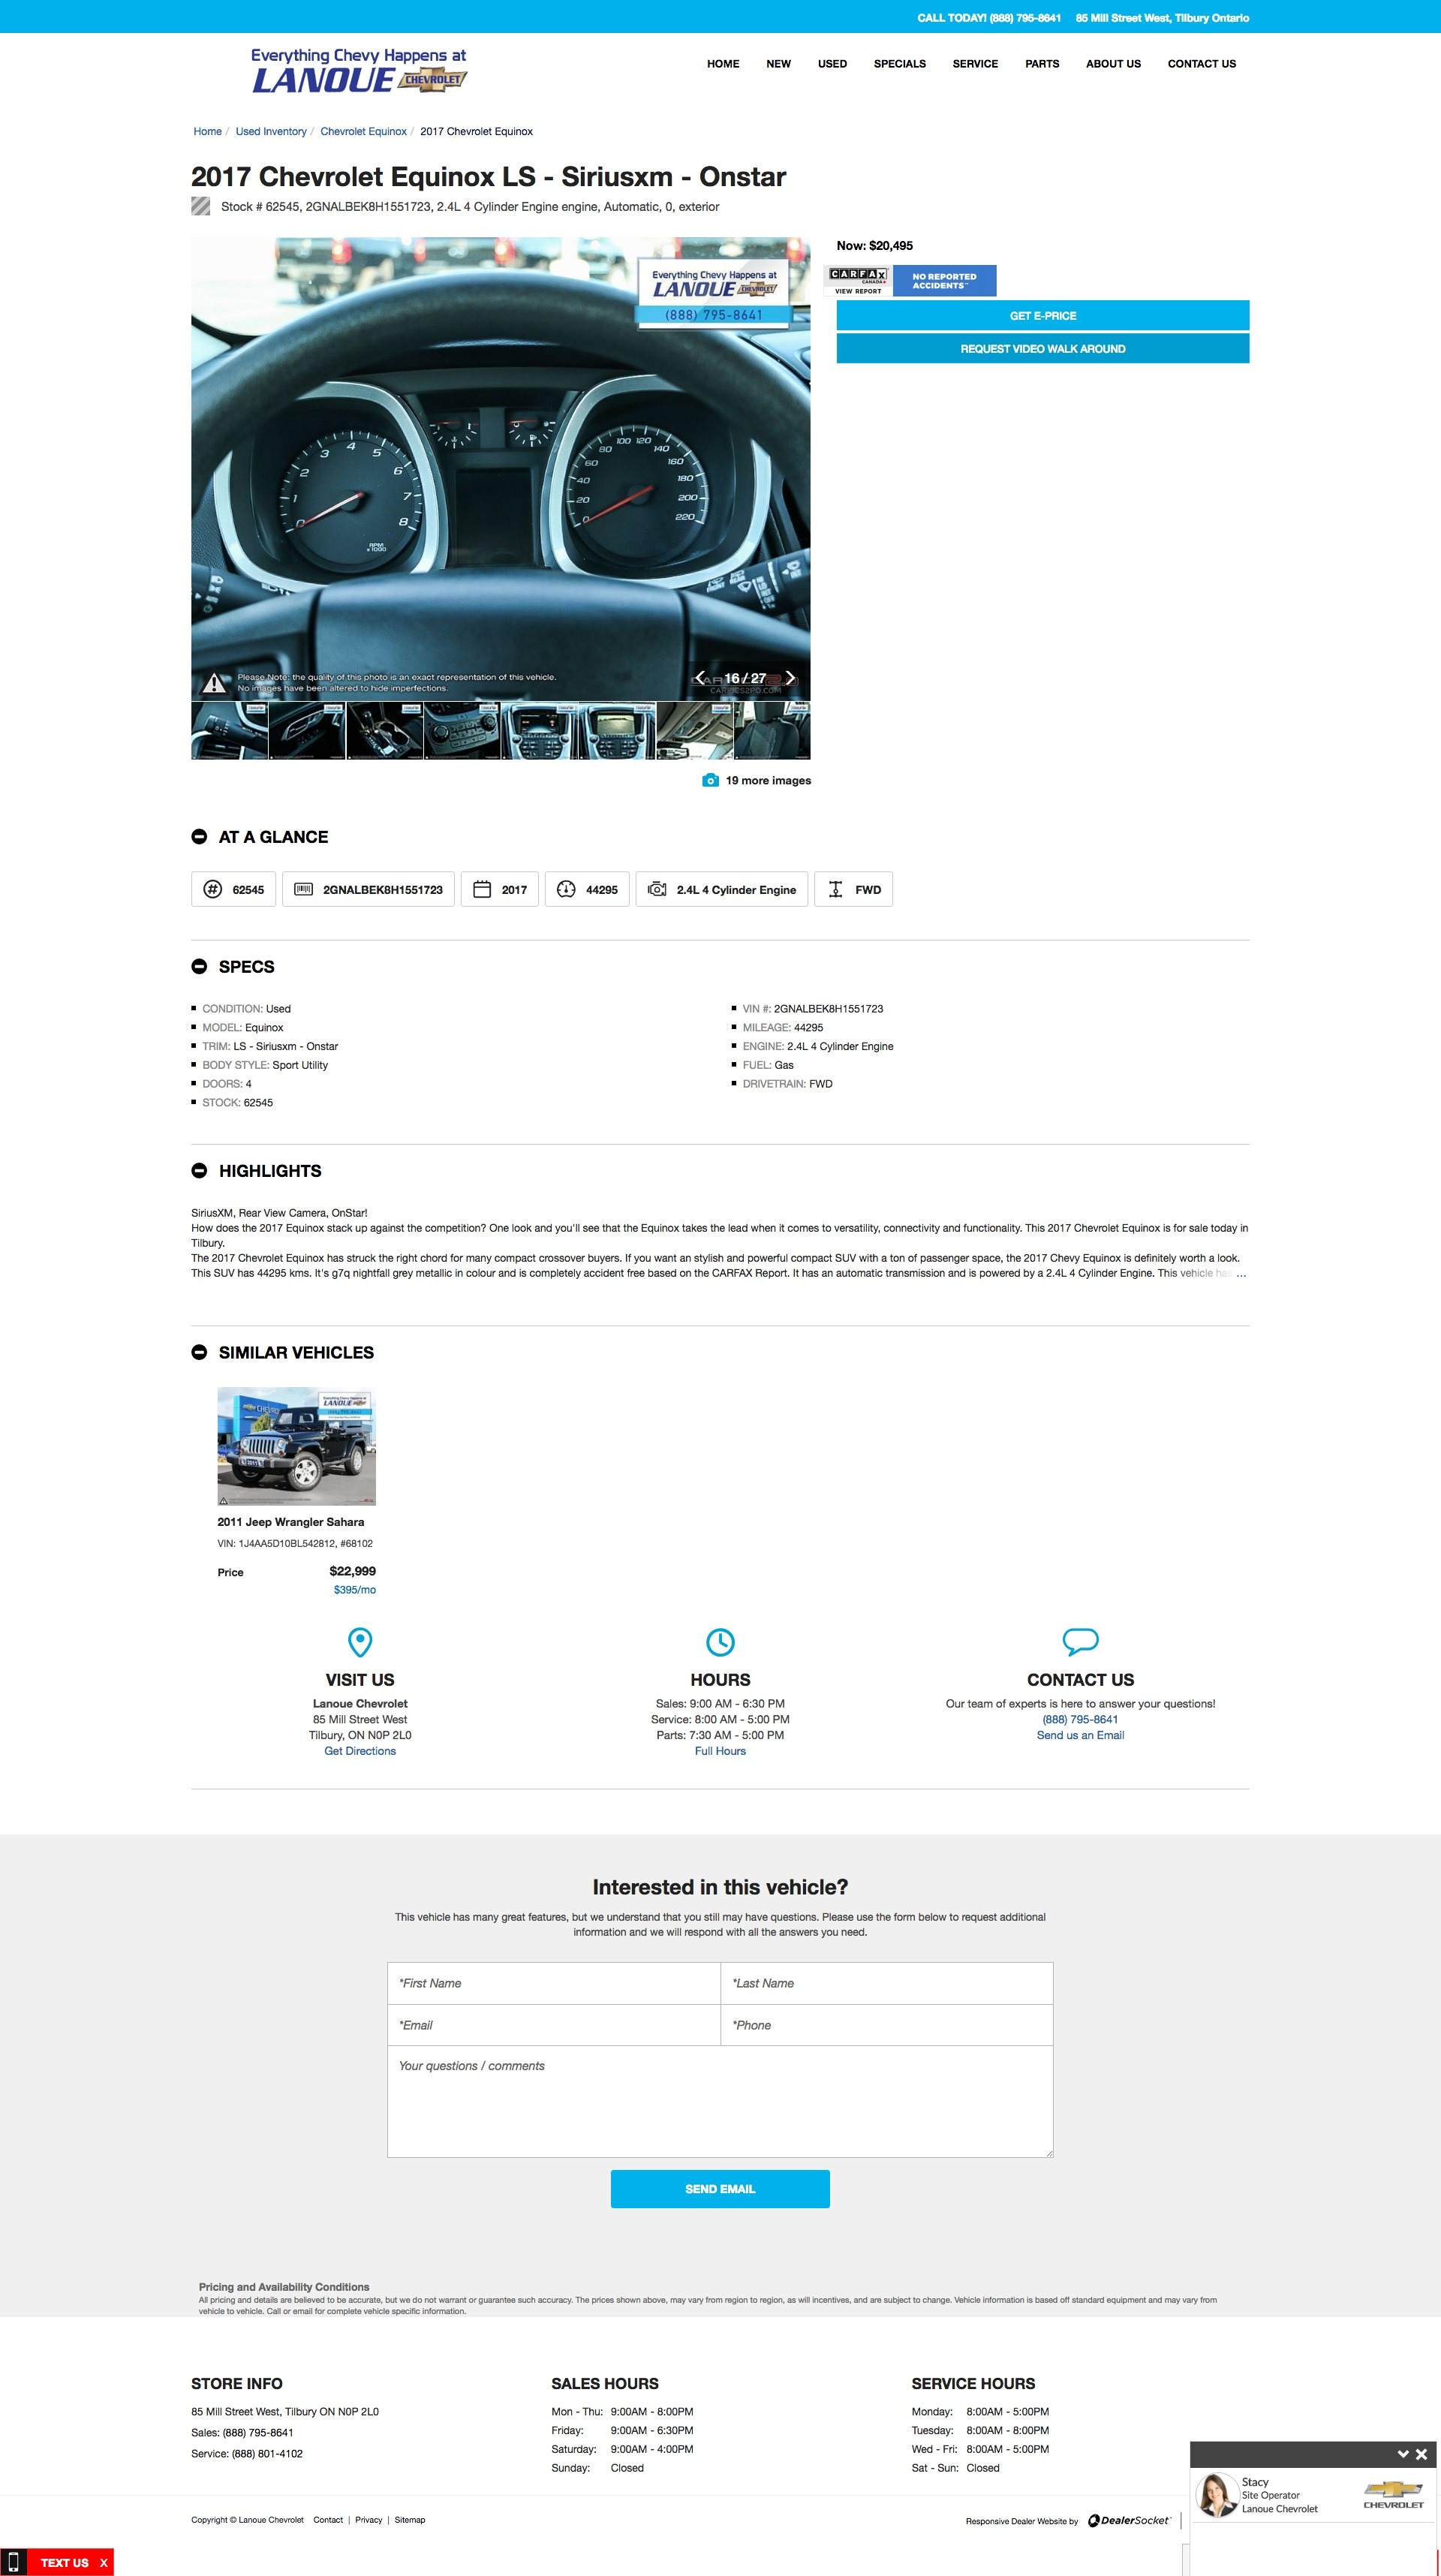car: (783, 669, 796, 688)
